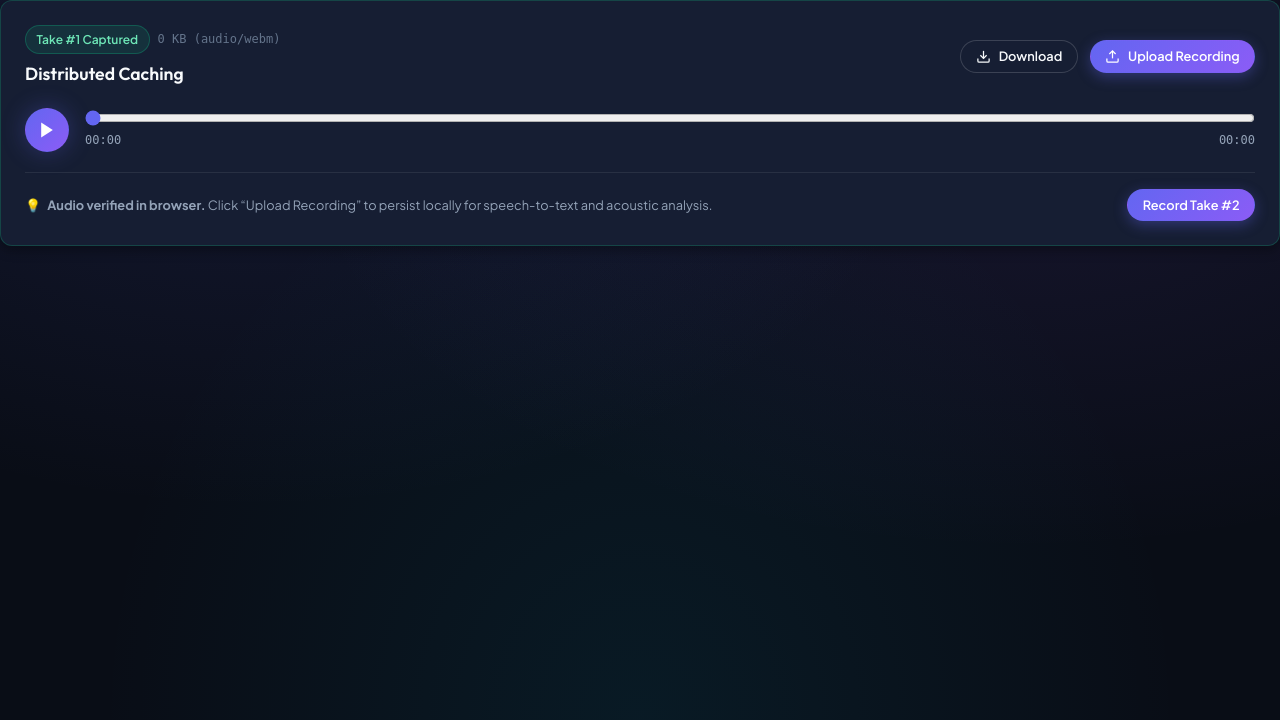
Test: AudioPlayer Component › displays transcription failure banner and allows retry
Click the button "Upload Recording" at coordinates (1172, 56), box x1=1090 y1=40 x2=1255 y2=73
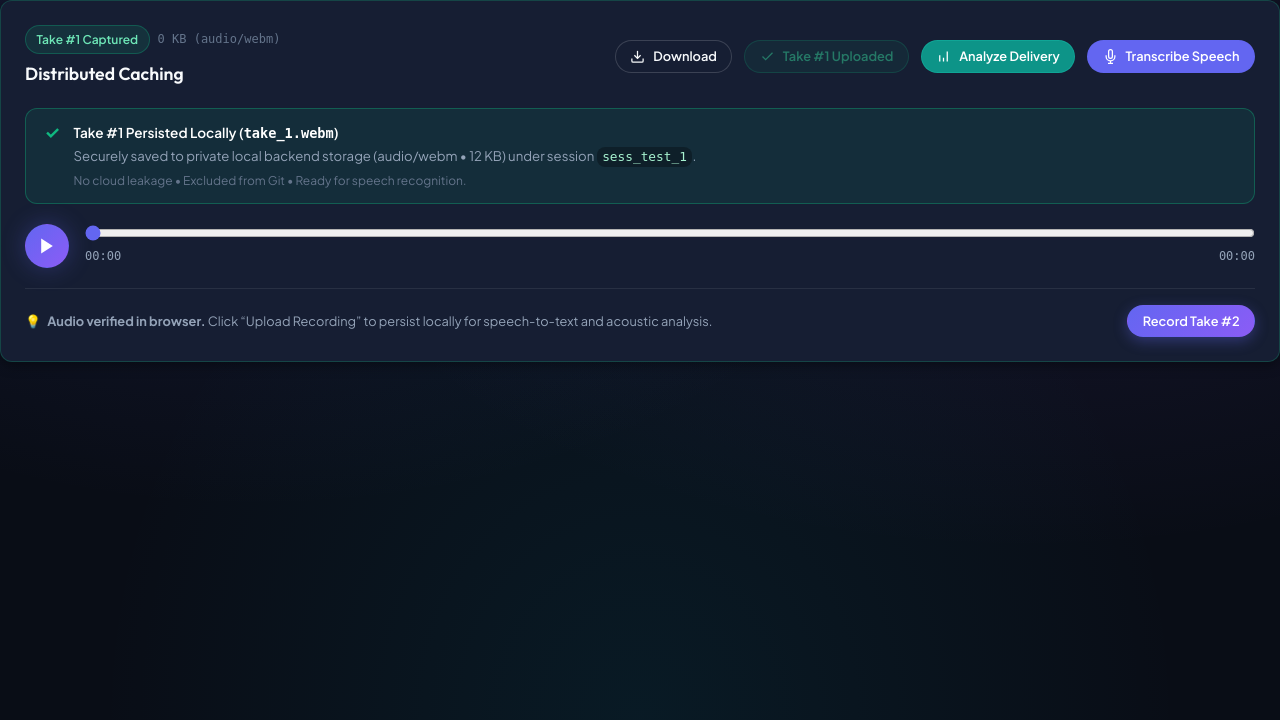
Expected: the button "Transcribe Speech" is shown
Click the button "Transcribe Speech" at coordinates (1171, 56), box x1=1087 y1=40 x2=1255 y2=73
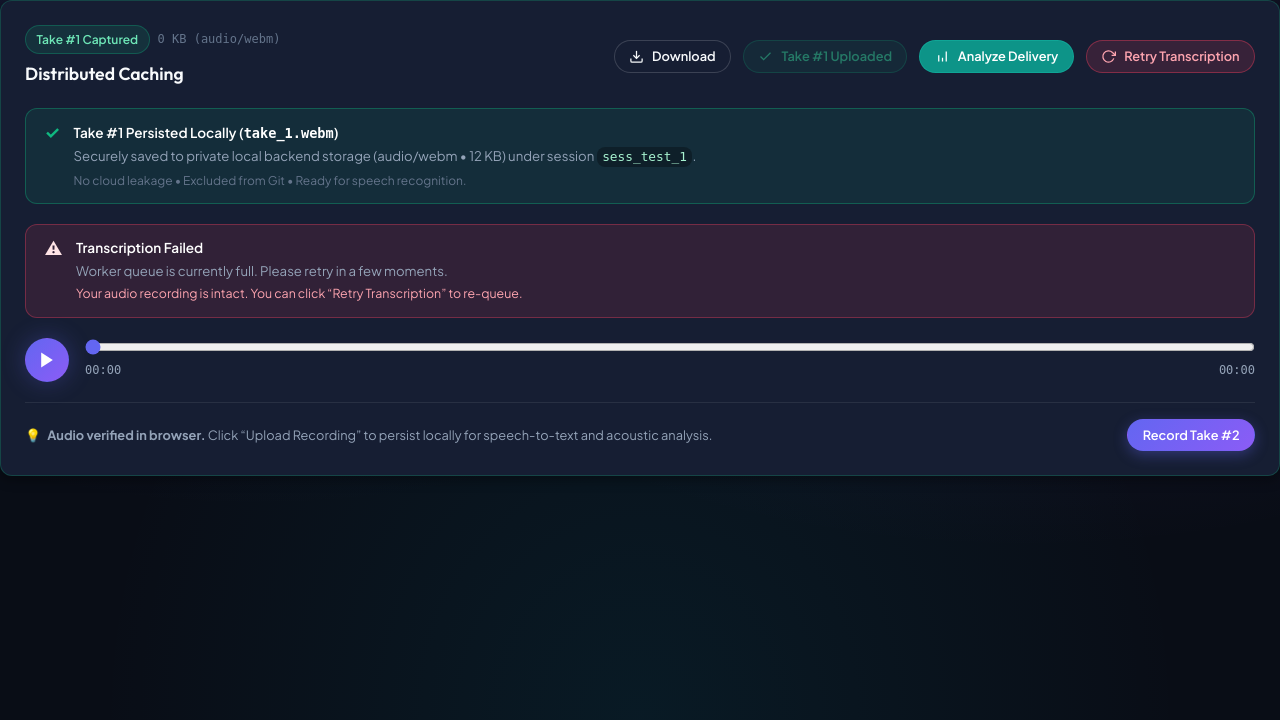
Expected: the text "Transcription Failed" is shown, x1=76 y1=239 x2=203 y2=256
Expected: the text "Worker queue is currently full. Please retry in a few moments." is shown, x1=76 y1=262 x2=448 y2=279
Expected: the button "Retry Transcription" is shown, x1=1086 y1=40 x2=1255 y2=73
